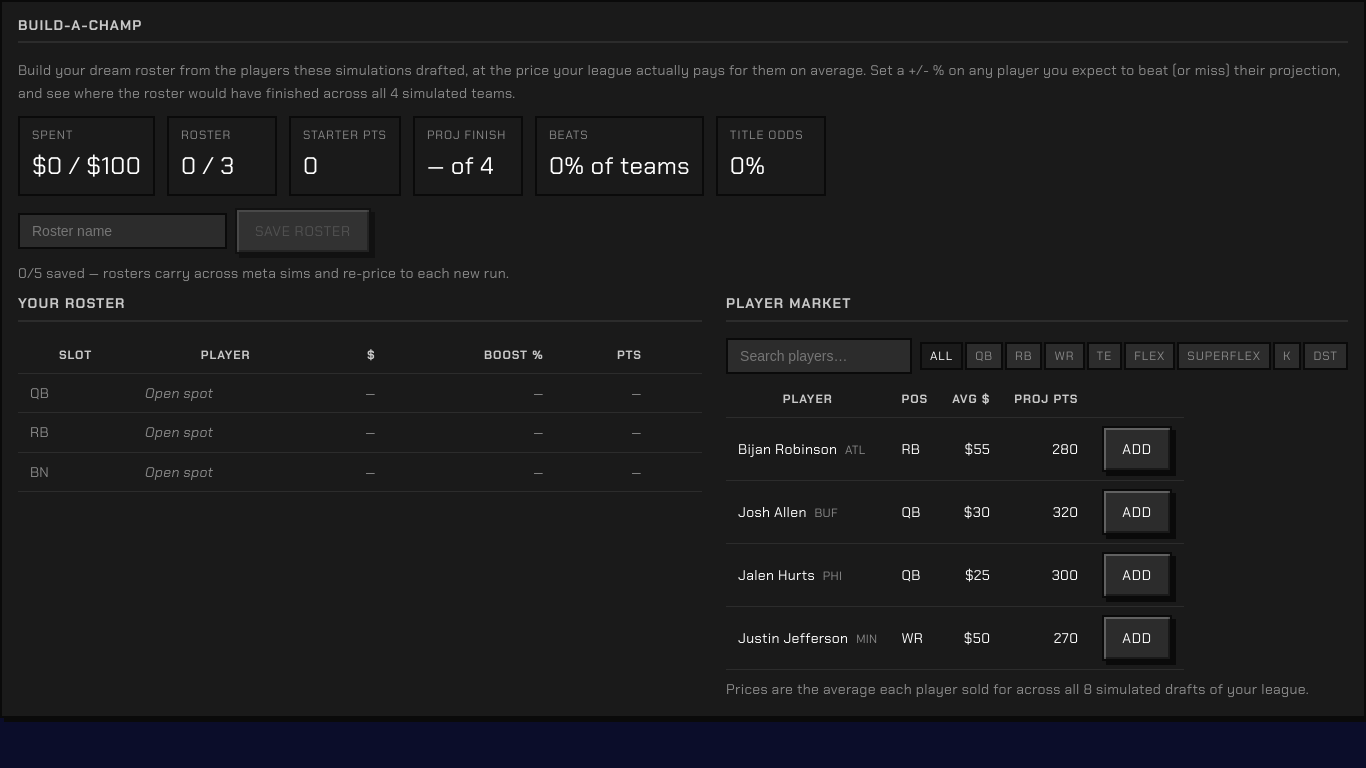
Test: BuildAChampTab › removes a player from the roster
This screenshot has width=1366, height=768.
What coordinates should you click on to do the following:
click the button "Add" in the row of "Josh Allen"
I would click on:
 (1137, 512)
Its box is x1=1102 y1=489 x2=1172 y2=535.
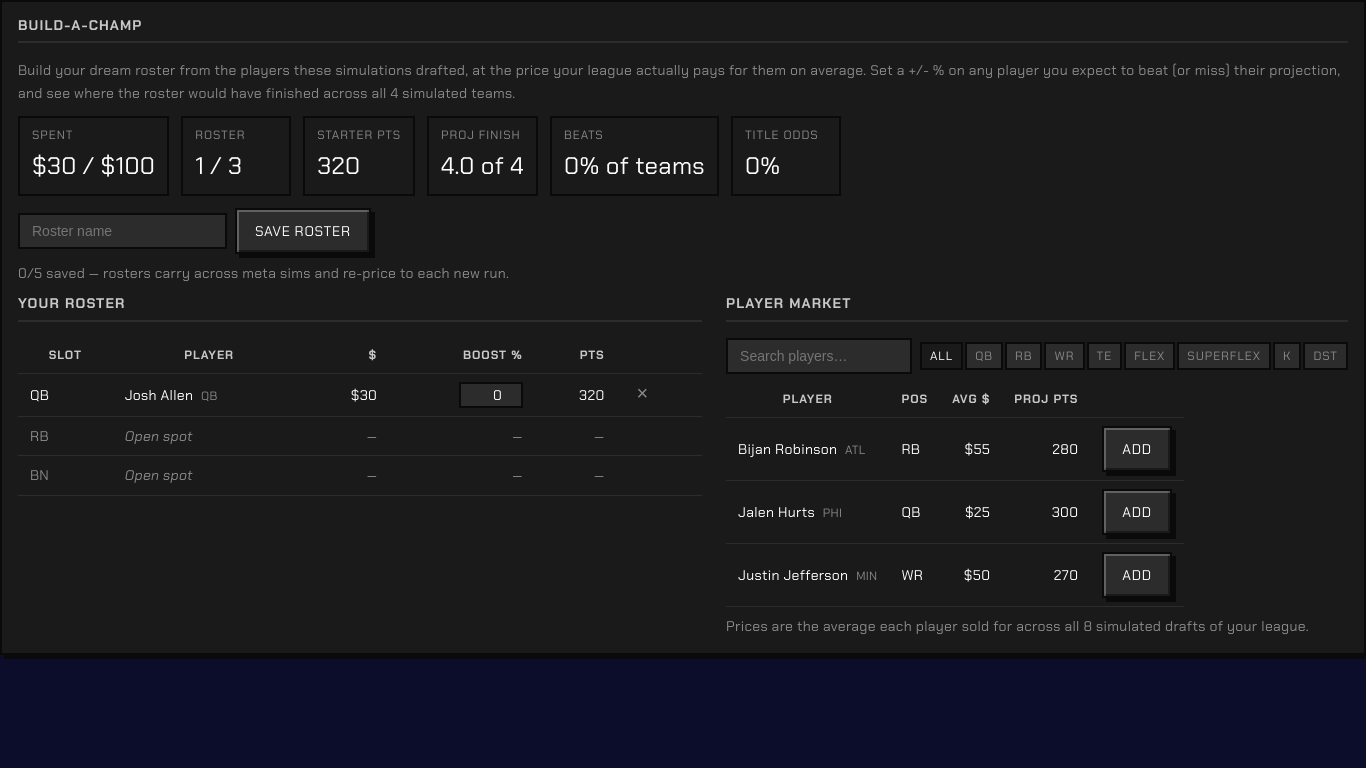
What coordinates should you click on to do the following:
click the button named "Remove Josh Allen"
I would click on:
 (642, 393)
Its box is x1=629 y1=383 x2=656 y2=403.
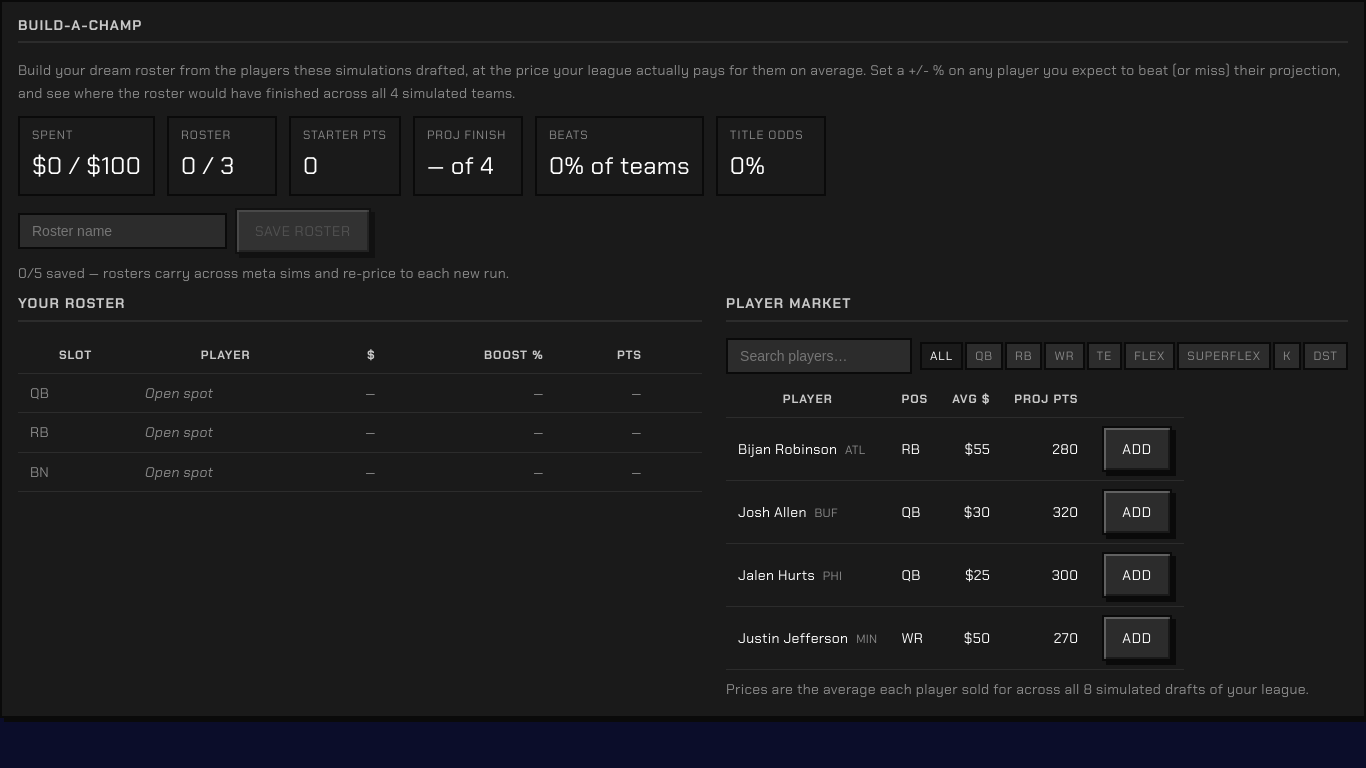
expect the text "0 / 3" is shown: met, box x1=181 y1=150 x2=234 y2=181
expect the text "Open spot" is shown 3 times: met, box x1=133 y1=373 x2=318 y2=413; x1=133 y1=413 x2=318 y2=452; x1=133 y1=452 x2=318 y2=491
